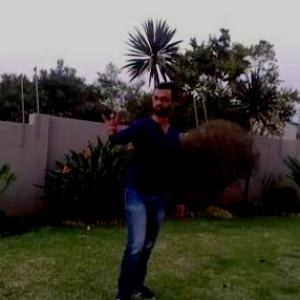takeoff-hand: (92, 104, 124, 140)
